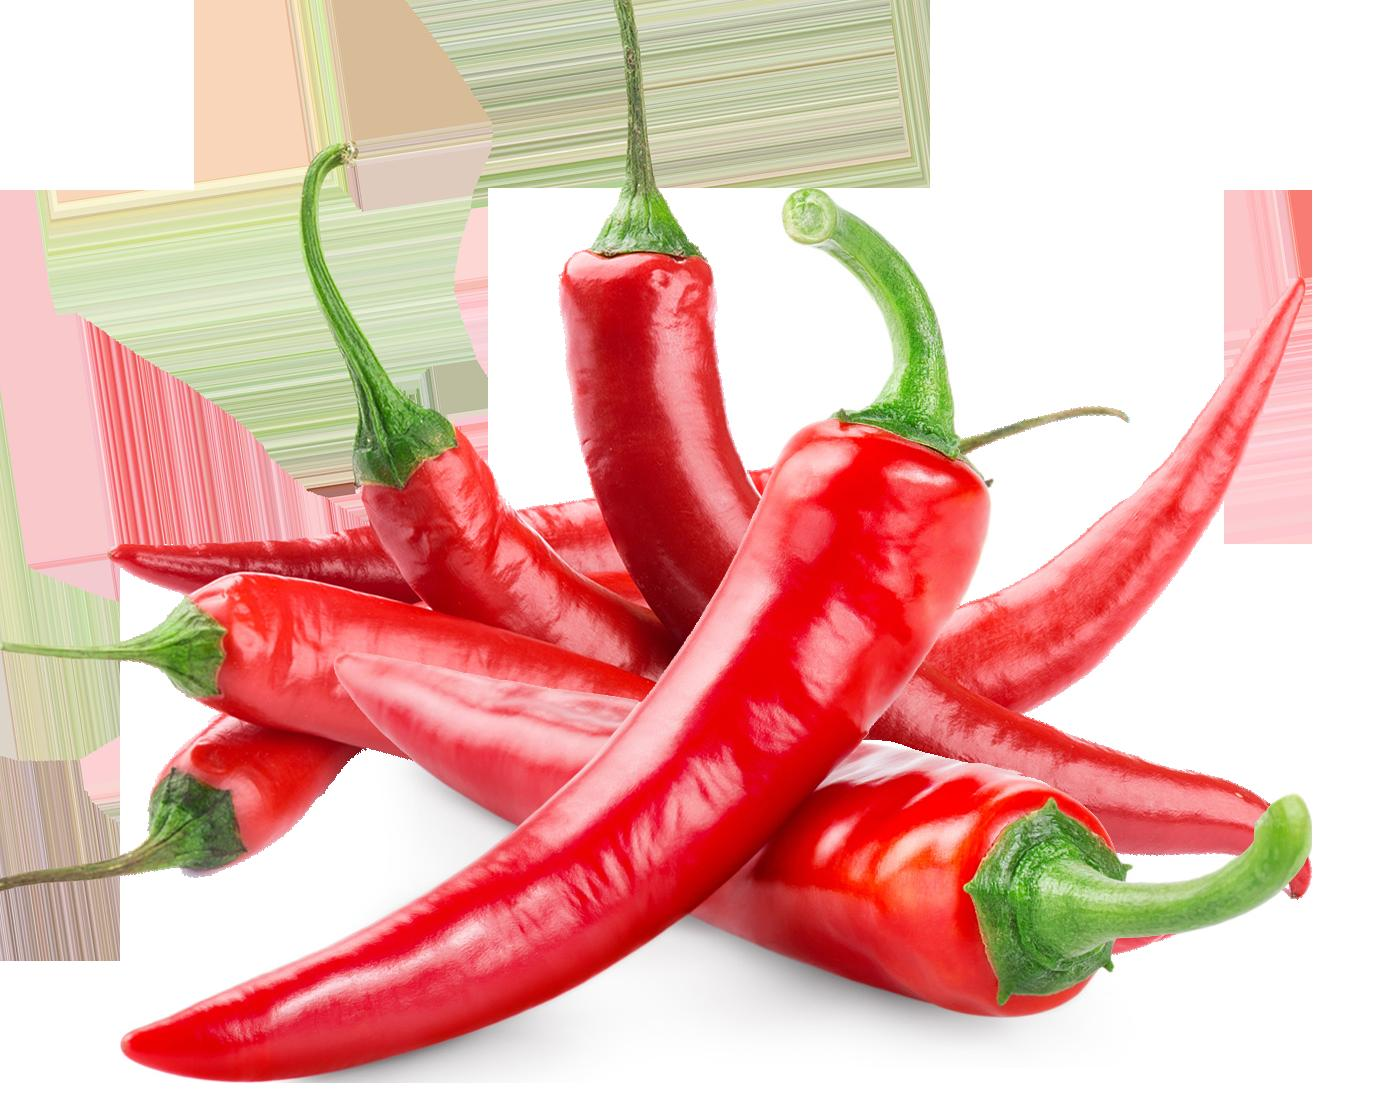chilli pepper: (119, 183, 1127, 1081), (338, 649, 1311, 1016), (296, 139, 677, 682), (683, 733, 1312, 1018), (917, 274, 1307, 714), (555, 0, 766, 647), (1, 568, 658, 755), (866, 663, 1313, 899), (0, 711, 363, 891), (104, 523, 423, 607)
